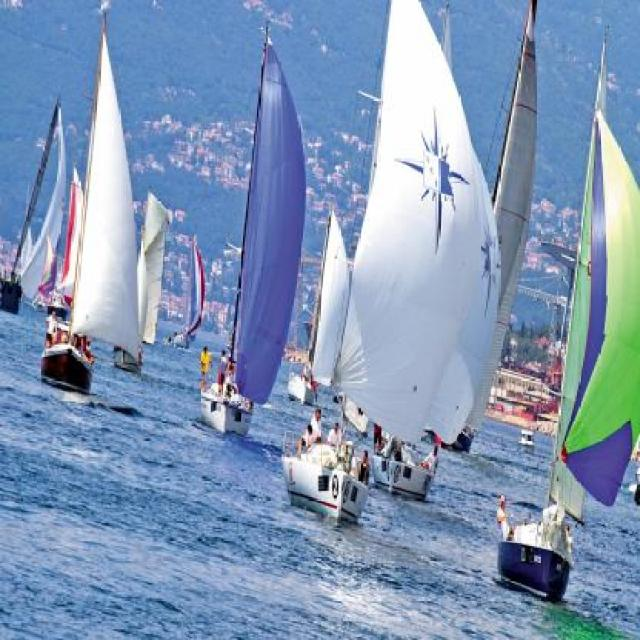ship: (280, 0, 478, 528), (495, 33, 637, 604), (370, 0, 499, 502), (198, 16, 304, 438), (440, 2, 538, 450), (39, 11, 138, 397), (0, 96, 68, 312), (111, 192, 171, 371), (172, 233, 206, 345), (516, 424, 535, 456)
